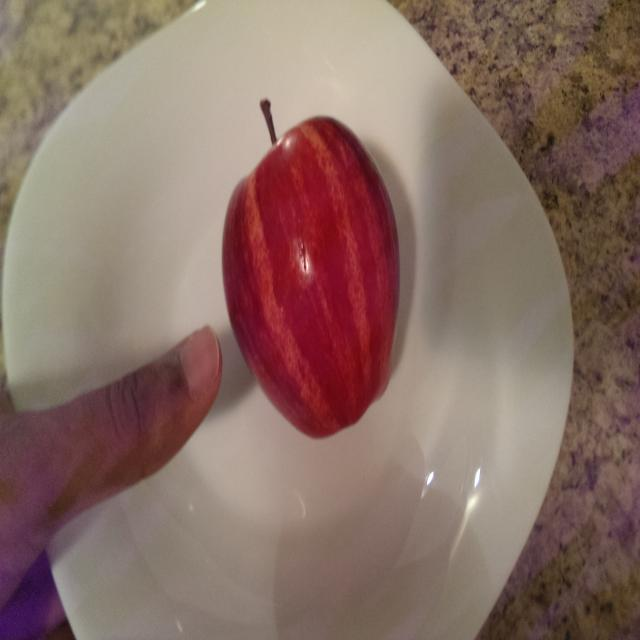apple: (216, 90, 434, 443)
